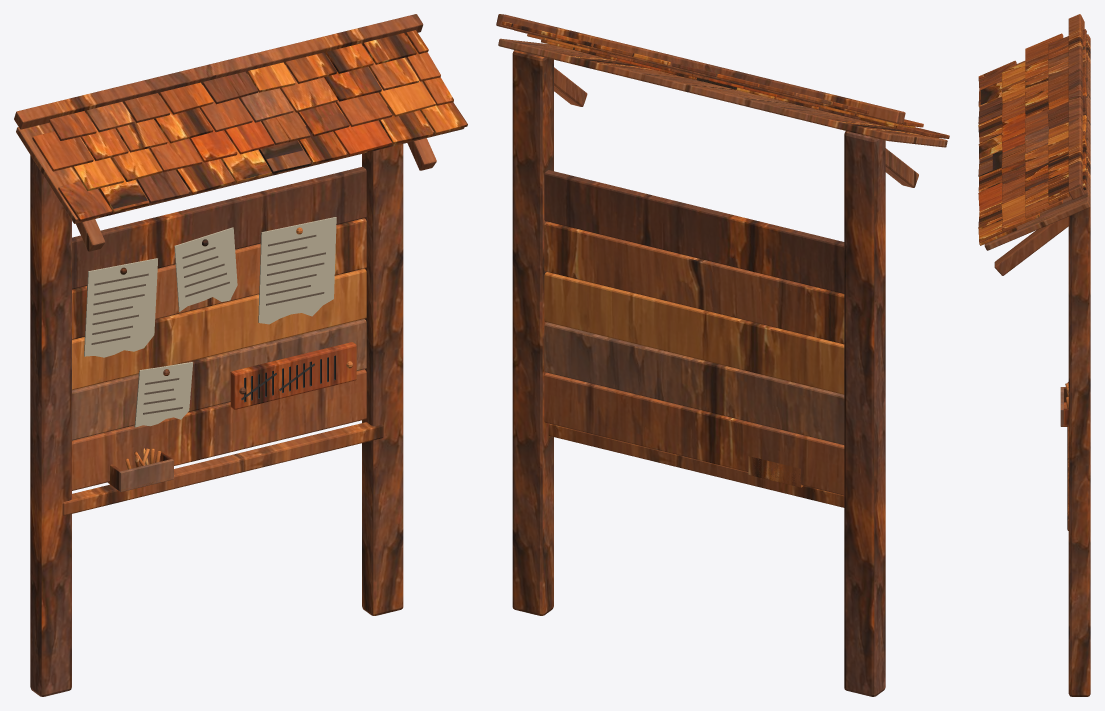
The model's file is ro_duty_board.glb.
3 views of the same model, side by side, from view 1: azimuth 30°, elevation 25°; view 2: azimuth 150°, elevation 25°; view 3: azimuth 270°, elevation 25° (orthographic). The views are drawn at different scales.
Visible parts, largest first — view 1: model; view 2: model; view 3: model.
Boxes of the visible parts, box(x1,y1,x2,y2) form: model: box(14, 14, 467, 696); model: box(496, 14, 949, 696); model: box(978, 14, 1090, 696).
Bounding box in the file's own units: 1.5 × 2.1 × 0.4112.
24 materials, 21 textured.
